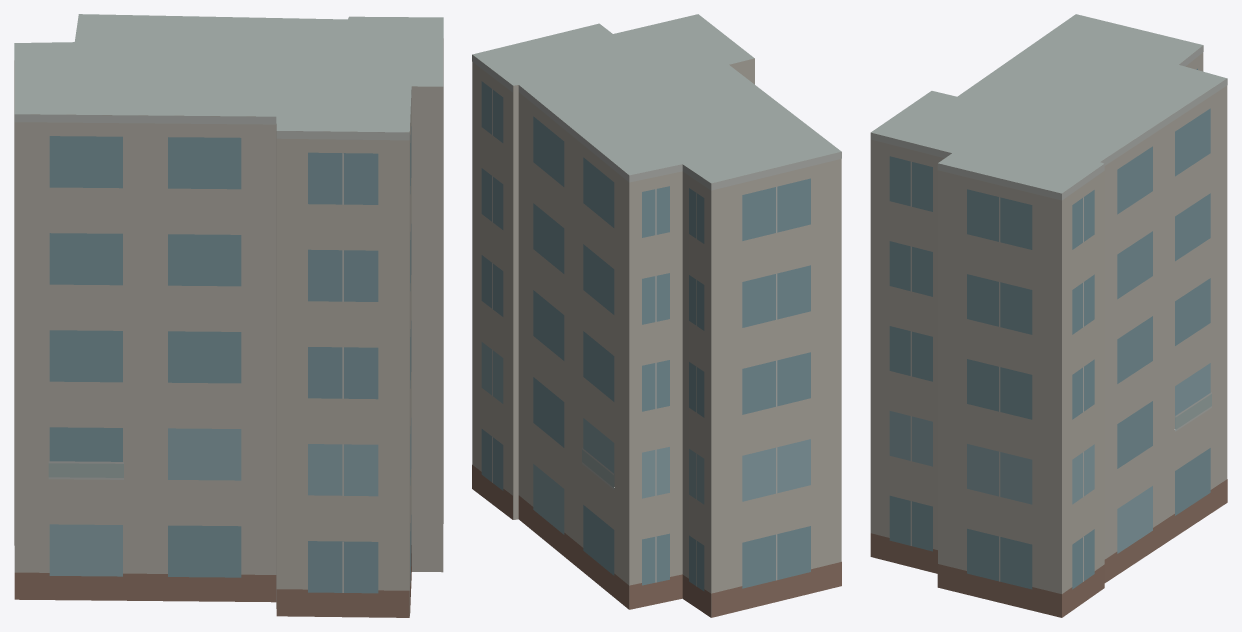
The model's file is survey-upis-32678717.glb.
3 renders of one model, left to right at view 1: azimuth 30°, elevation 25°; view 2: azimuth 150°, elevation 25°; view 3: azimuth 270°, elevation 25°, orthographic. The views are drawn at different scales.
Parts seen in each view (by area): view 1: survey-upis-32678717.tmp; view 2: survey-upis-32678717.tmp; view 3: survey-upis-32678717.tmp.
Boxes of the visible parts, bbox=[...] form: survey-upis-32678717.tmp: bbox=[14, 14, 443, 617]; survey-upis-32678717.tmp: bbox=[472, 14, 841, 617]; survey-upis-32678717.tmp: bbox=[870, 14, 1227, 617].
Size of the model in its own units: 13.49 by 14.85 by 11.32.
